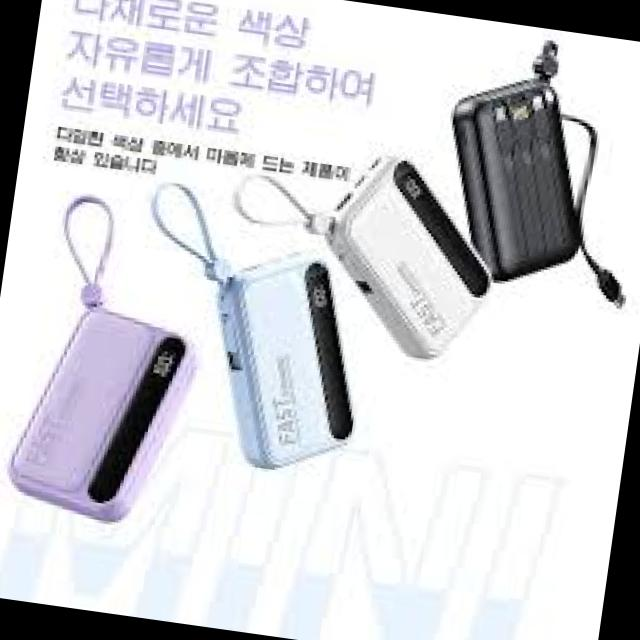portable-charger: (1, 290, 209, 540), (196, 234, 384, 484), (317, 141, 508, 367), (428, 70, 608, 296)
